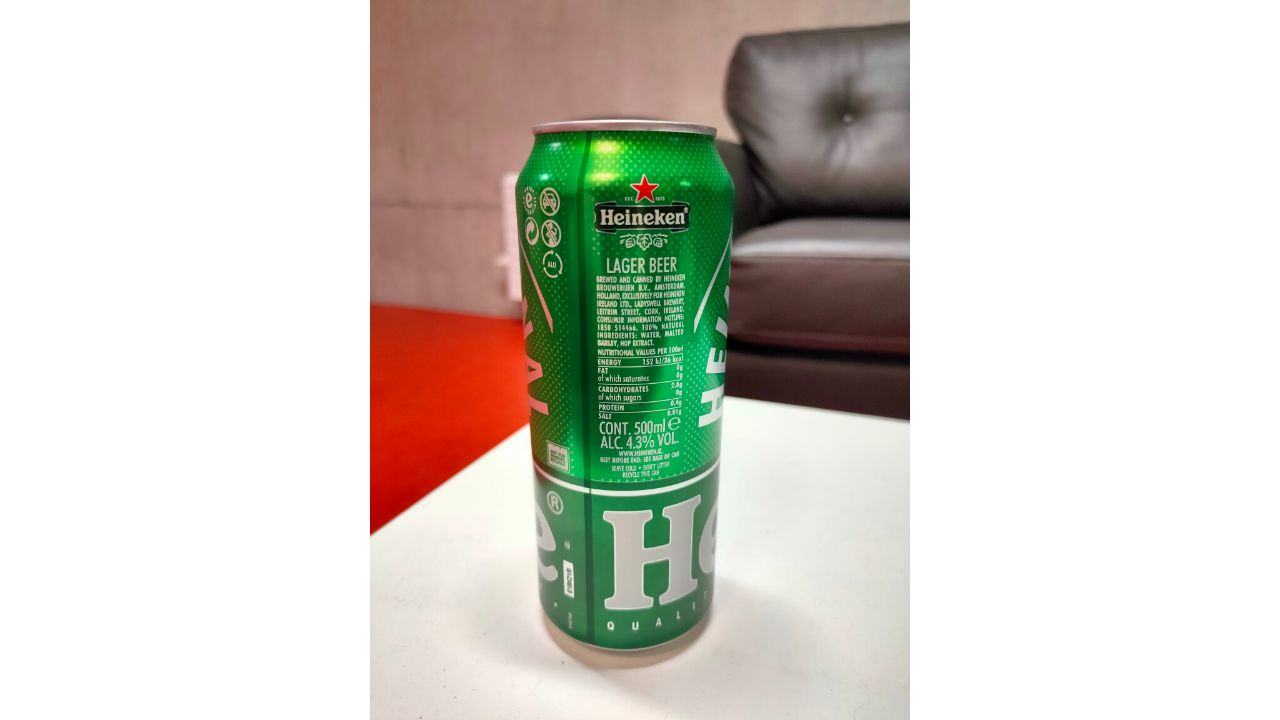Can: (511, 121, 742, 658)
